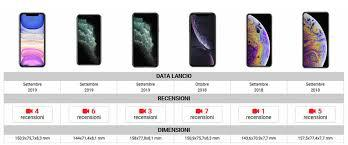Smartphone: (131, 12, 162, 69), (301, 11, 329, 68), (186, 13, 215, 68), (245, 13, 274, 66), (19, 11, 46, 64), (76, 13, 102, 64)
